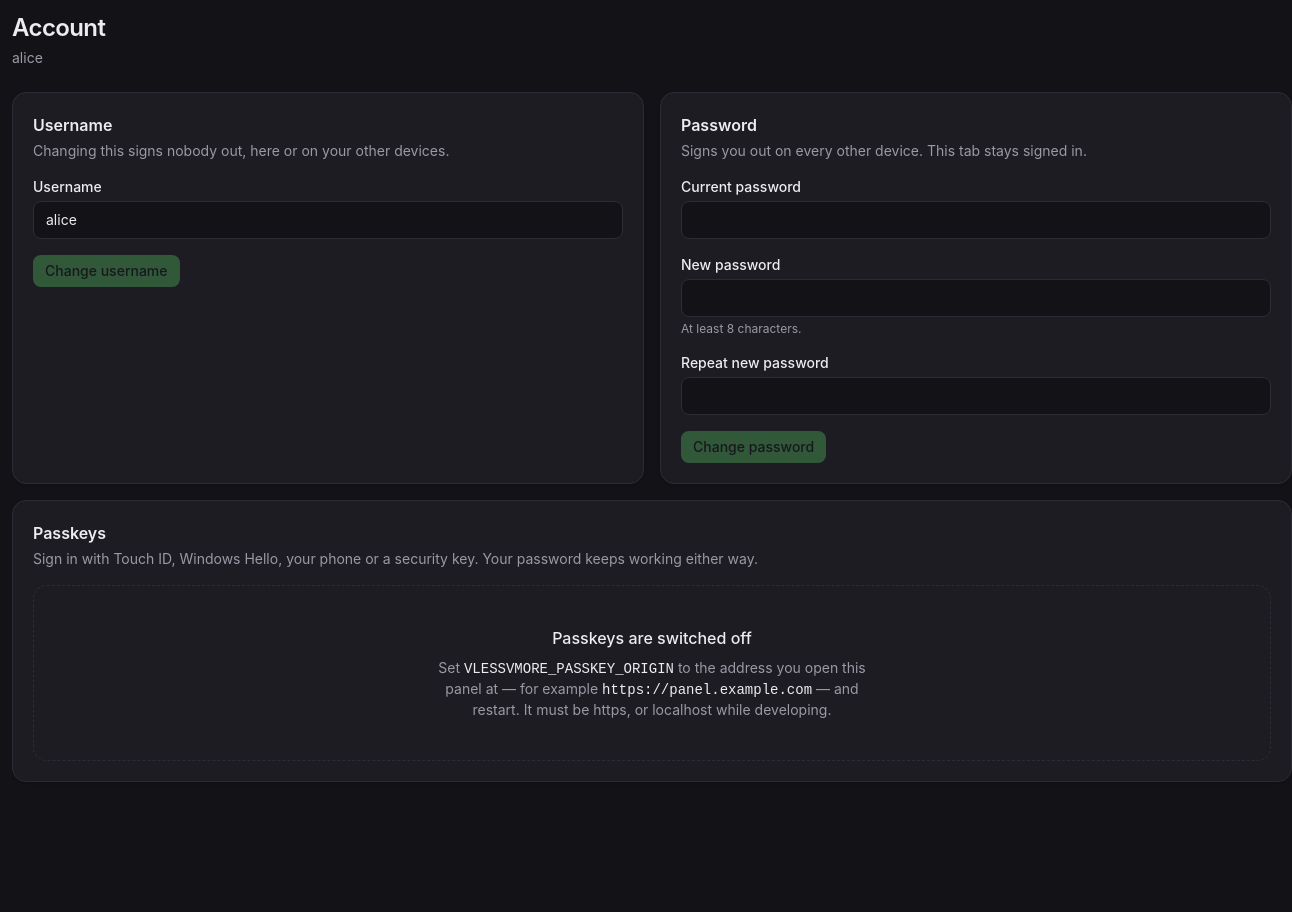
AccountPage › posts a password change and says the other devices are out
This screenshot has width=1292, height=912.
Expected: the heading "Account" is shown, [12,12,105,44]
Type "hunter2hunter2" into the password field labelled "Current password" at (976, 220), box [681,201,1271,239]
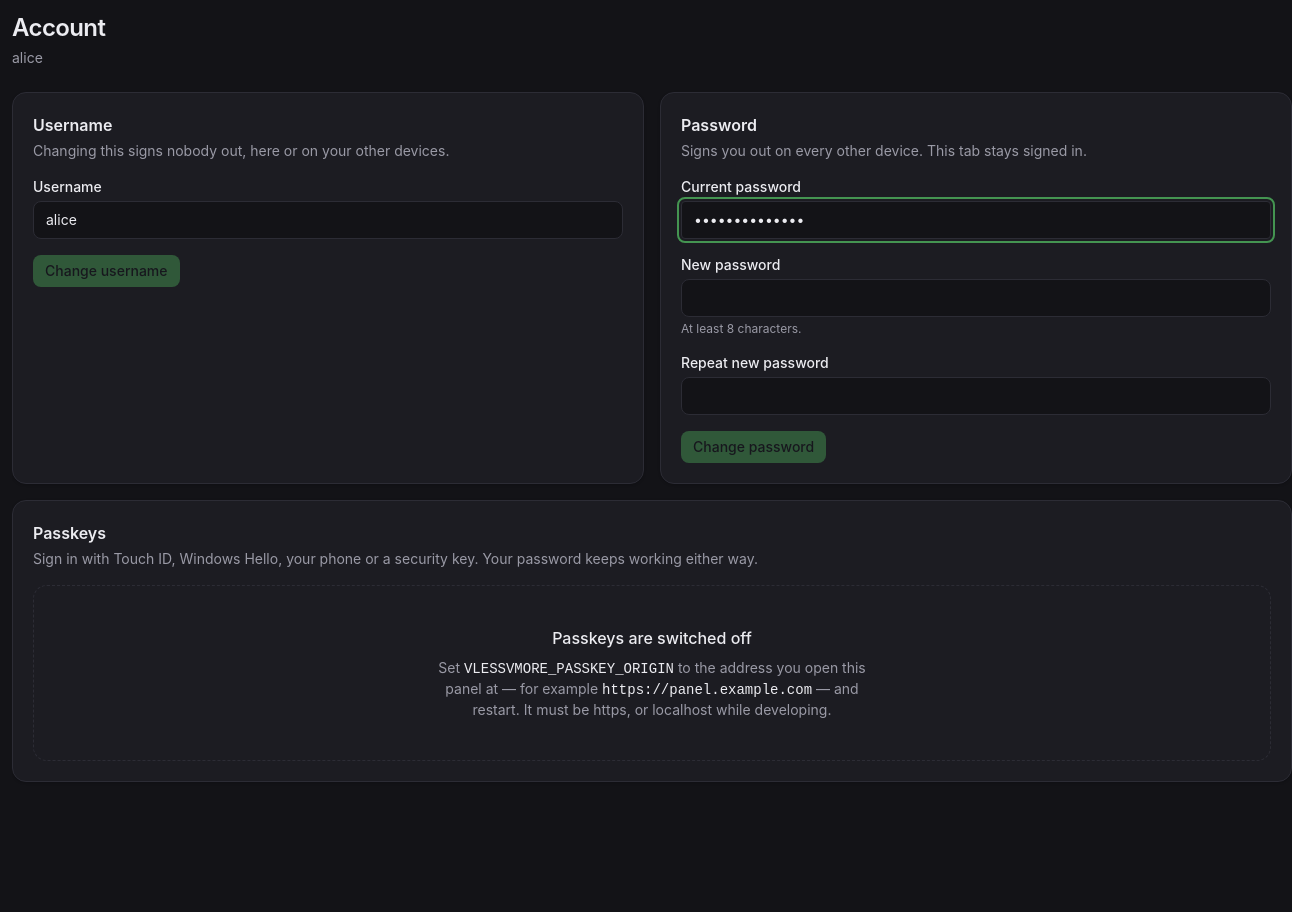
Type "brandnewpassword" into the password field labelled "New password At least 8 characters." at (976, 298), box [681,279,1271,317]
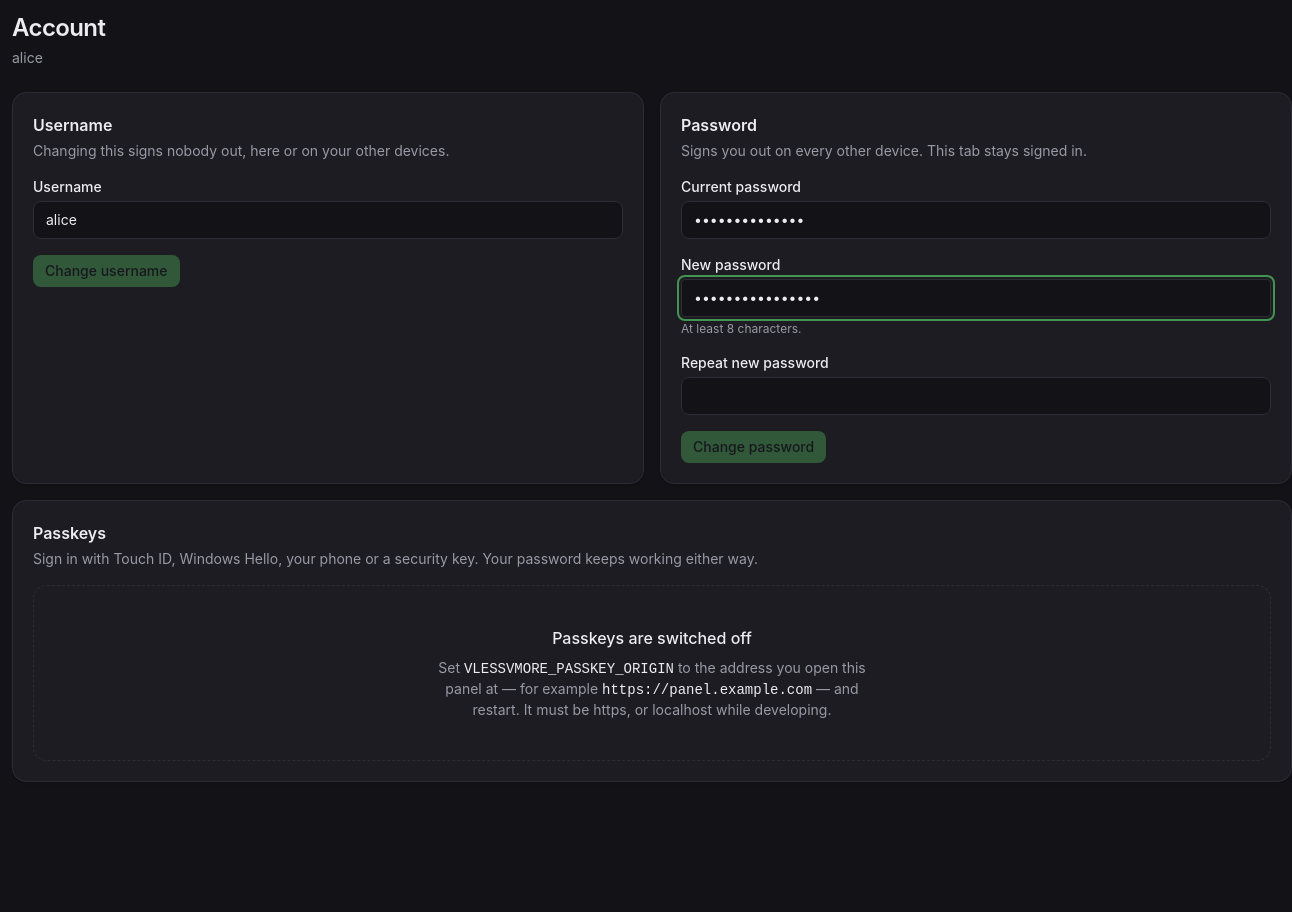
Type "brandnewpassword" into the password field labelled "Repeat new password" at (976, 396), box [681,377,1271,415]
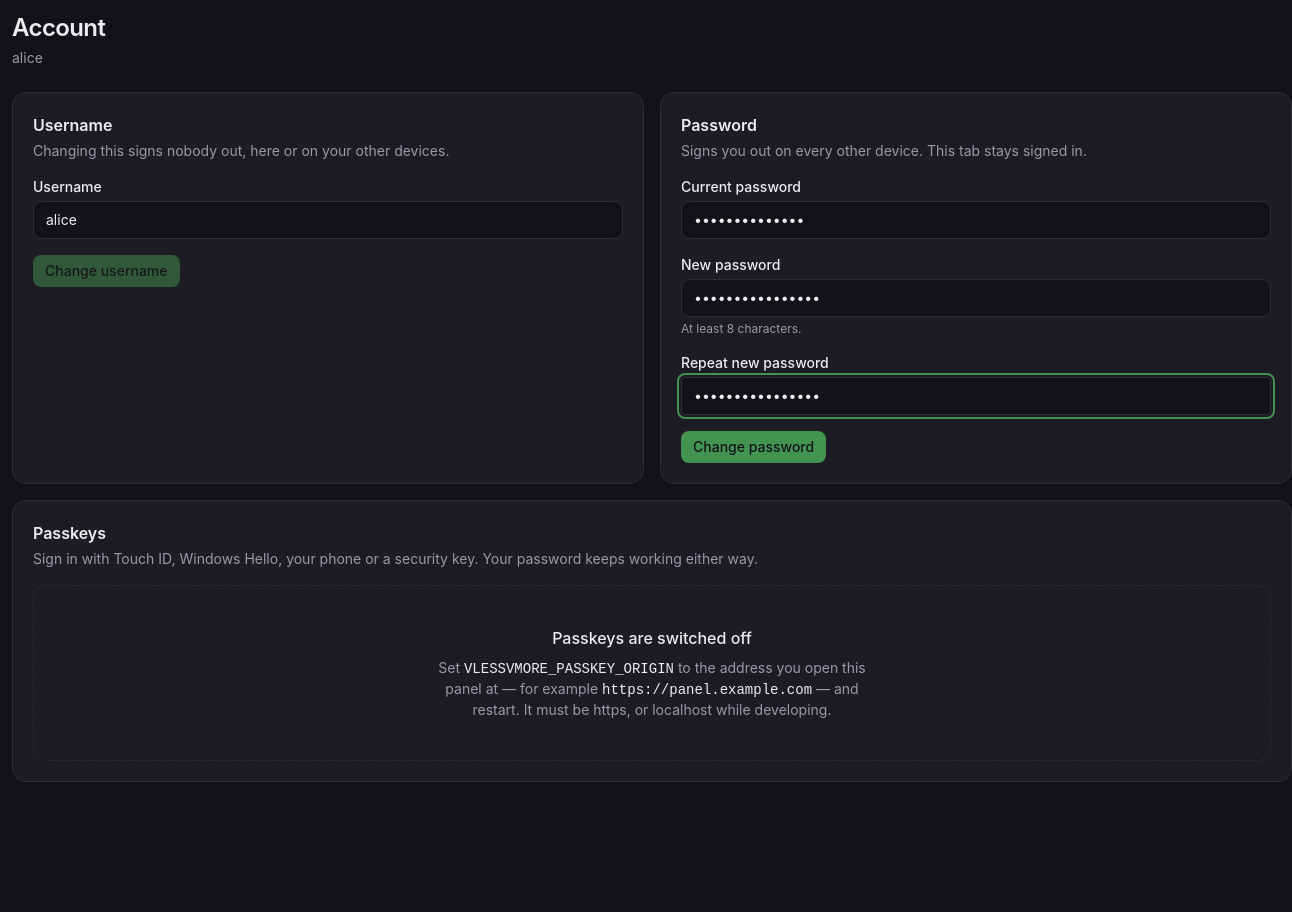
Click the button "Change password" at (754, 447), box [681,431,826,463]
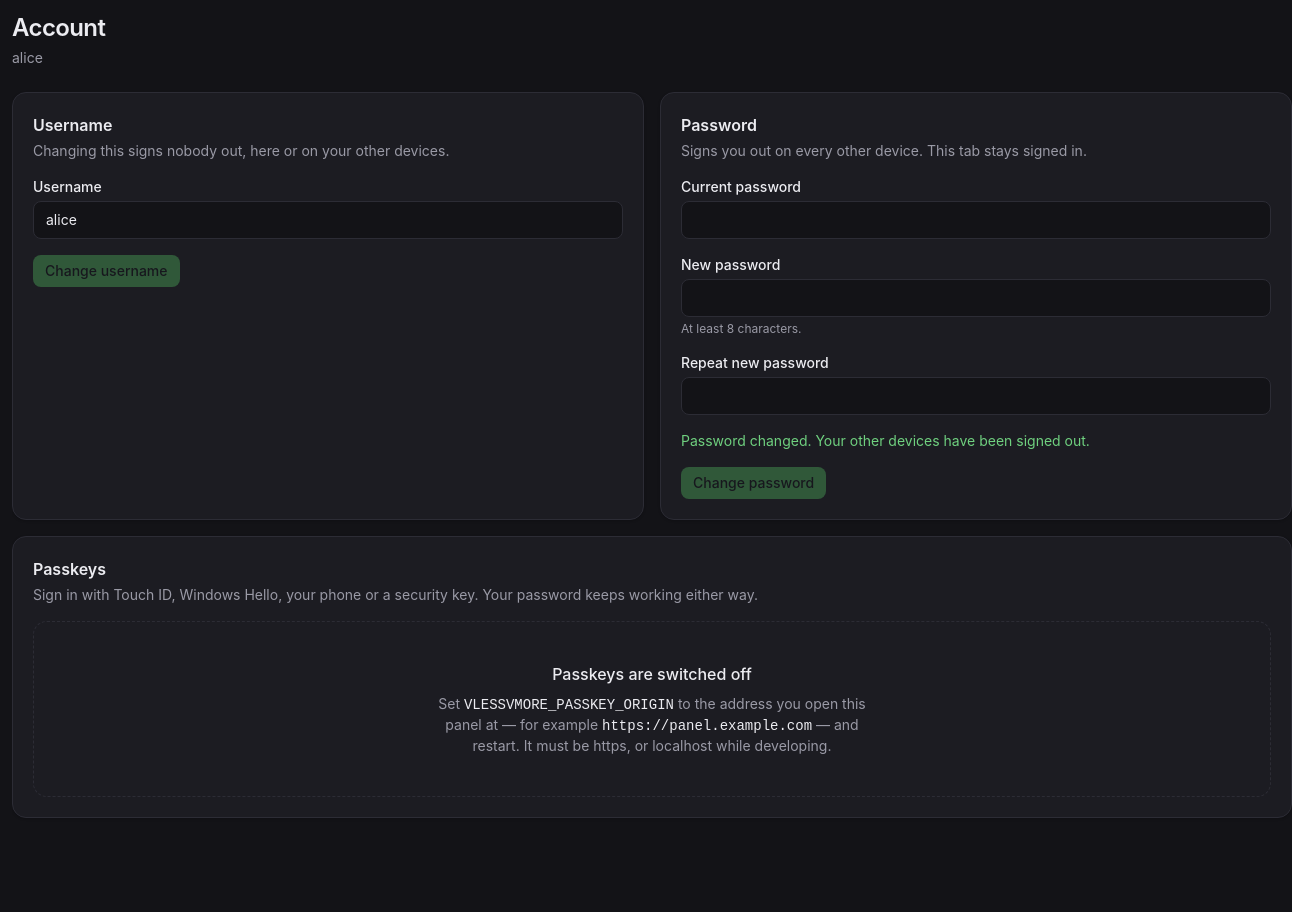
Expected: the text "Password changed. Your other devices have been signed out." is shown, [681,432,1090,449]
